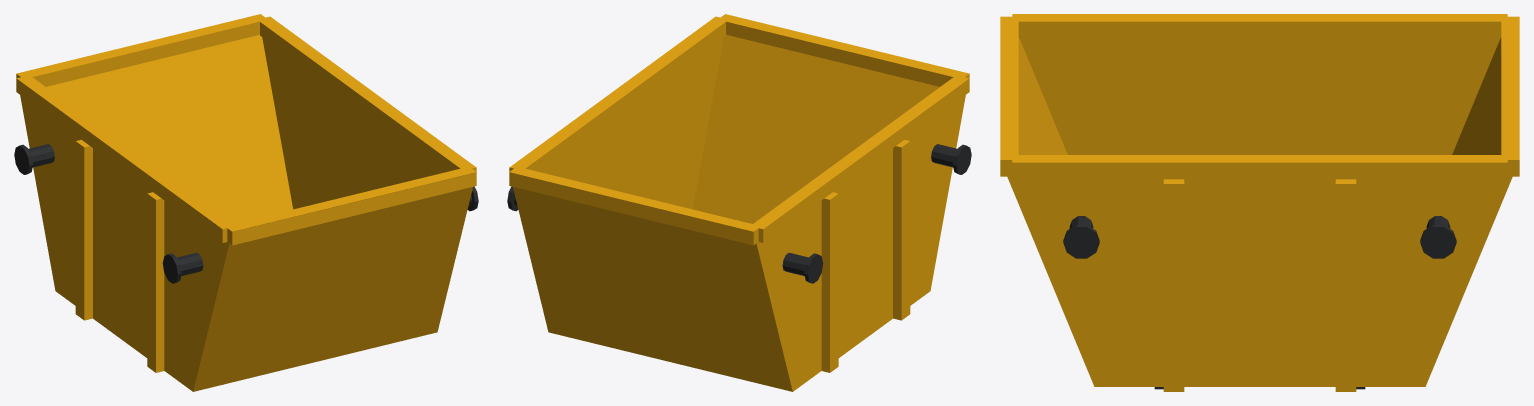
The model's file is plant.skip.midi_4yd.glb.
The picture shows the model from 3 angles, left to right: view 1: azimuth 30°, elevation 25°; view 2: azimuth 150°, elevation 25°; view 3: azimuth 270°, elevation 25°; orthographic projection. The views are drawn at different scales.
Parts seen in each view (by area): view 1: main__plant_yellow, main__steel_dark; view 2: main__plant_yellow, main__steel_dark; view 3: main__plant_yellow, main__steel_dark.
Part boxes in pixels (x1,y1,x2,y2): main__plant_yellow: (16, 14, 476, 391); main__steel_dark: (14, 144, 478, 283); main__plant_yellow: (509, 14, 969, 391); main__steel_dark: (507, 144, 971, 283); main__plant_yellow: (1000, 14, 1519, 391); main__steel_dark: (1063, 216, 1456, 389).
Size of the model in its own units: 1.6 by 1 by 1.99.
